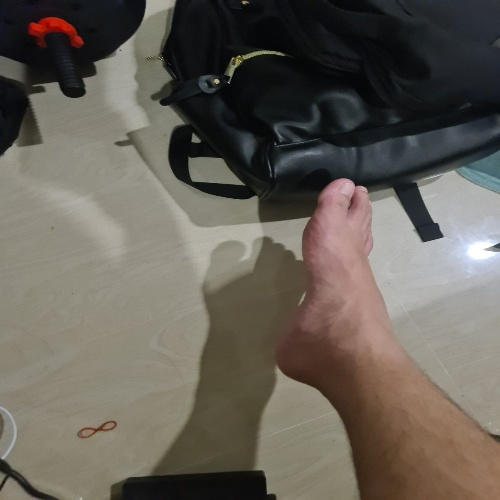3: (319, 177, 352, 227)
4: (277, 323, 309, 379)
Top_Foot: (277, 177, 386, 381)
